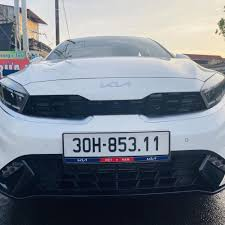number-plate: (64, 134, 171, 153)
